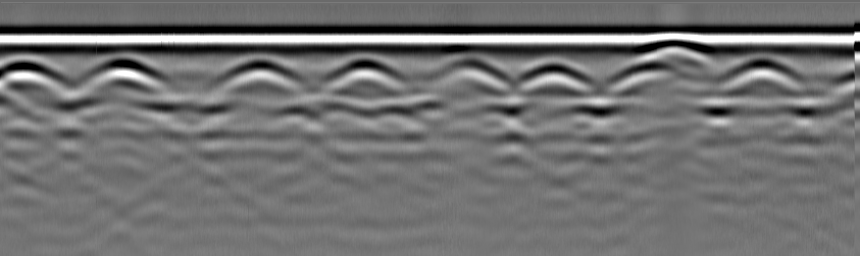pipe: (436, 57, 507, 84)
steel: (84, 58, 160, 94), (219, 59, 297, 90), (330, 58, 394, 88), (728, 57, 800, 83), (520, 60, 589, 87), (1, 59, 63, 89), (651, 37, 705, 55)
